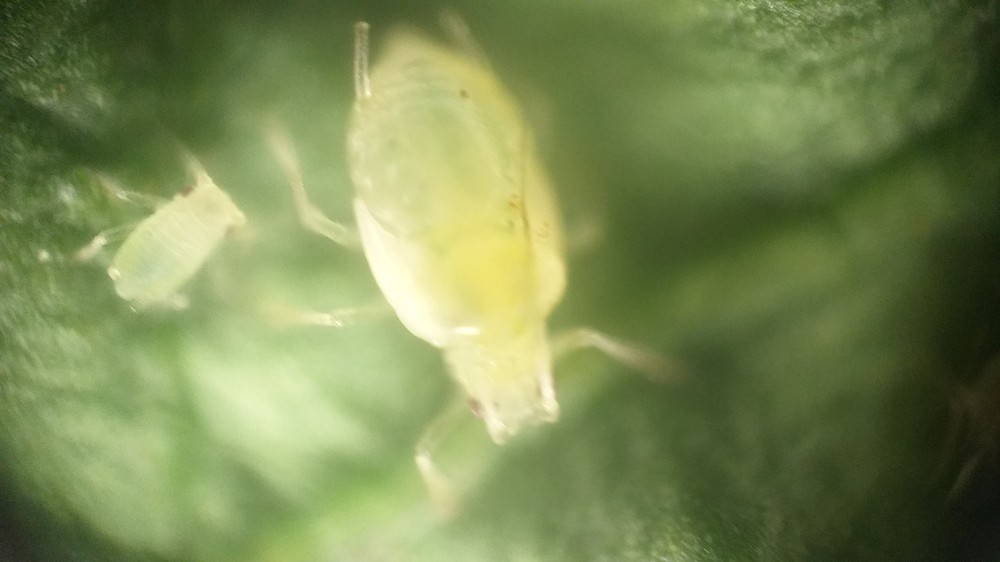Pulgon: (266, 31, 750, 512), (72, 150, 252, 319)
